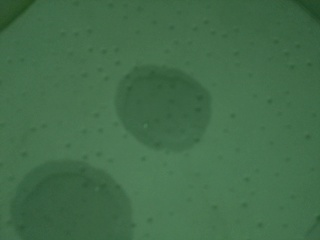Water_detected: (38, 173, 127, 240), (126, 68, 201, 144)
